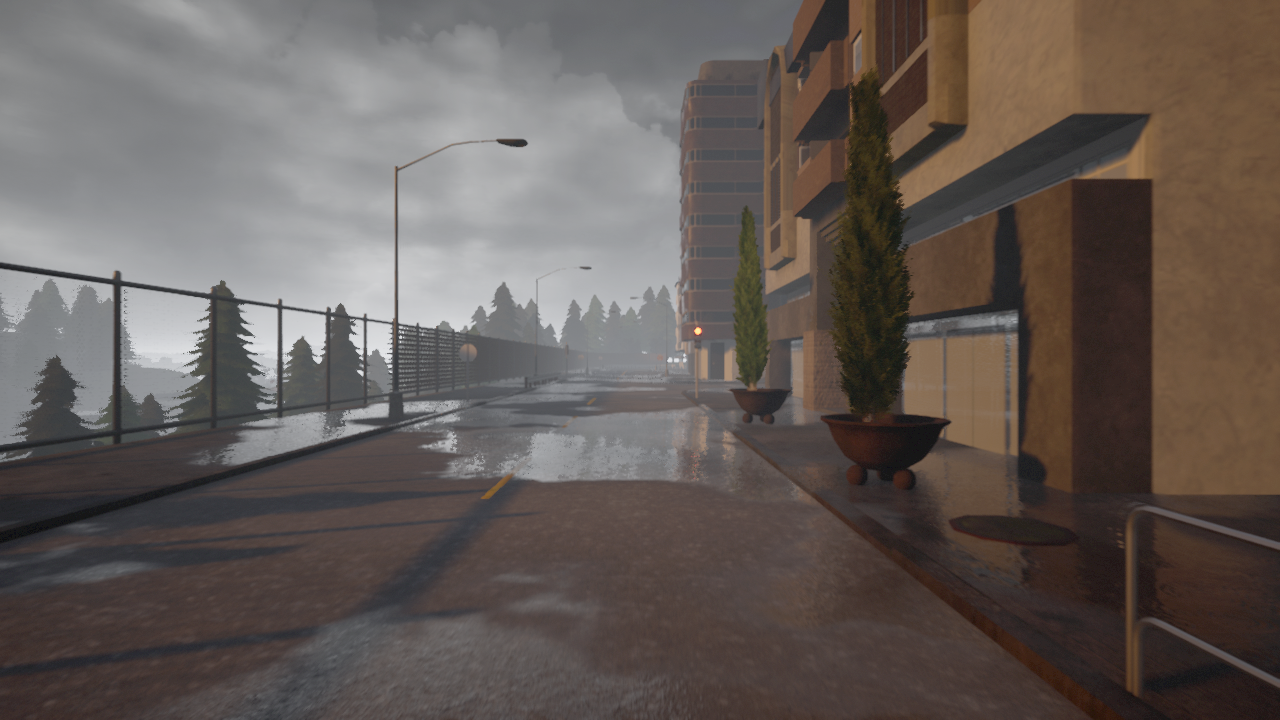red: (694, 326, 702, 350)
